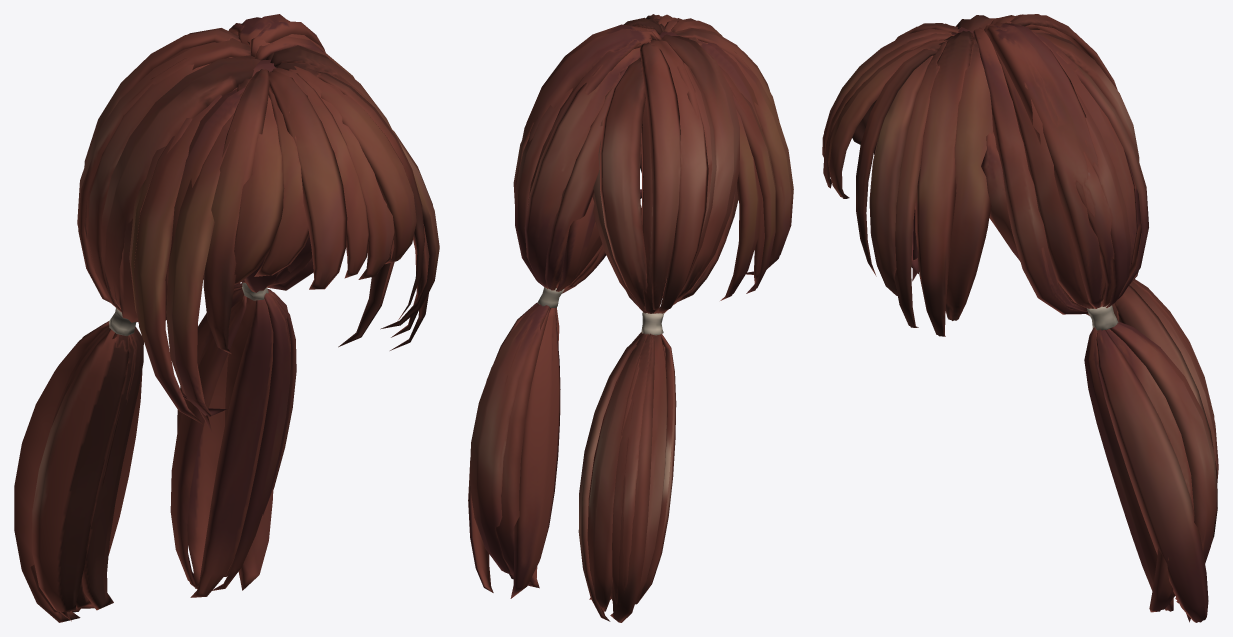
File: modular_twins.glb
3 renders of one model, left to right at view 1: azimuth 30°, elevation 25°; view 2: azimuth 150°, elevation 25°; view 3: azimuth 270°, elevation 25°, orthographic. The views are drawn at different scales.
Visible parts, largest first — view 1: lowtwinbackright, lowtwinfront, lowtwinbackleft, lowtwinright, lowtwinleft, lowhairband; view 2: lowtwinbackright, lowtwinbackleft, lowtwinright, lowtwinfront, lowhairband; view 3: lowtwinbackleft, lowtwinleft, lowtwinfront, lowtwinbackright, lowhairband.
Part boxes in pixels (left/top/right/bottom): lowtwinbackright: left=14, top=28, right=260, bottom=622; lowtwinfront: left=203, top=66, right=424, bottom=353; lowtwinbackleft: left=170, top=14, right=325, bottom=597; lowtwinright: left=129, top=59, right=276, bottom=432; lowtwinleft: left=266, top=45, right=439, bottom=350; lowhairband: left=109, top=282, right=268, bottom=335; lowtwinbackright: left=578, top=34, right=739, bottom=622; lowtwinbackleft: left=468, top=24, right=661, bottom=598; lowtwinright: left=655, top=32, right=793, bottom=300; lowtwinfront: left=640, top=14, right=779, bottom=172; lowhairband: left=537, top=287, right=664, bottom=335; lowtwinbackleft: left=972, top=22, right=1217, bottom=622; lowtwinleft: left=869, top=30, right=992, bottom=336; lowtwinfront: left=822, top=23, right=959, bottom=276; lowtwinbackright: left=956, top=14, right=1218, bottom=543; lowhairband: left=1087, top=305, right=1118, bottom=330.
Bounding box in the file's own units: 0.2172 × 0.5003 × 0.3109.
1 material, 1 textured.
